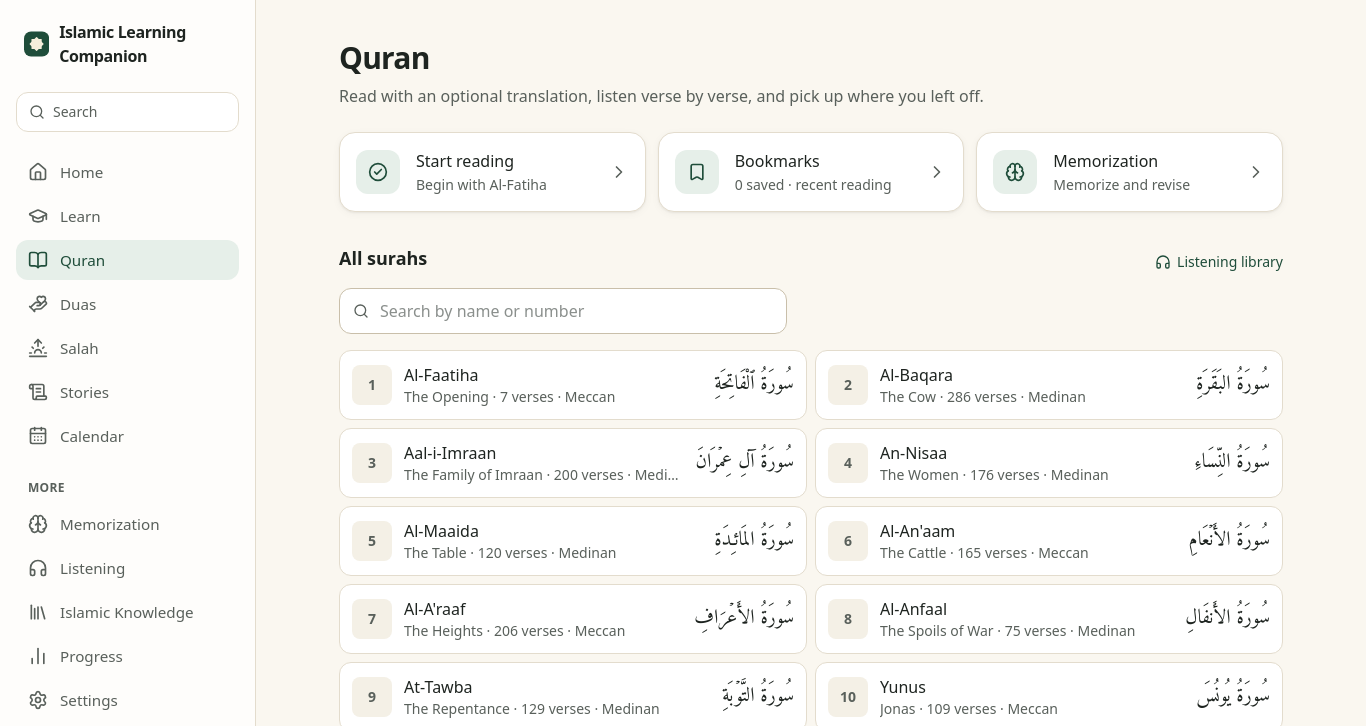
it: Quran index and listening › searches surahs by name
The width and height of the screenshot is (1366, 726).
Step 1. Type "kahf" into the search field named "search surahs" → (563, 311), box x1=339 y1=288 x2=787 y2=334
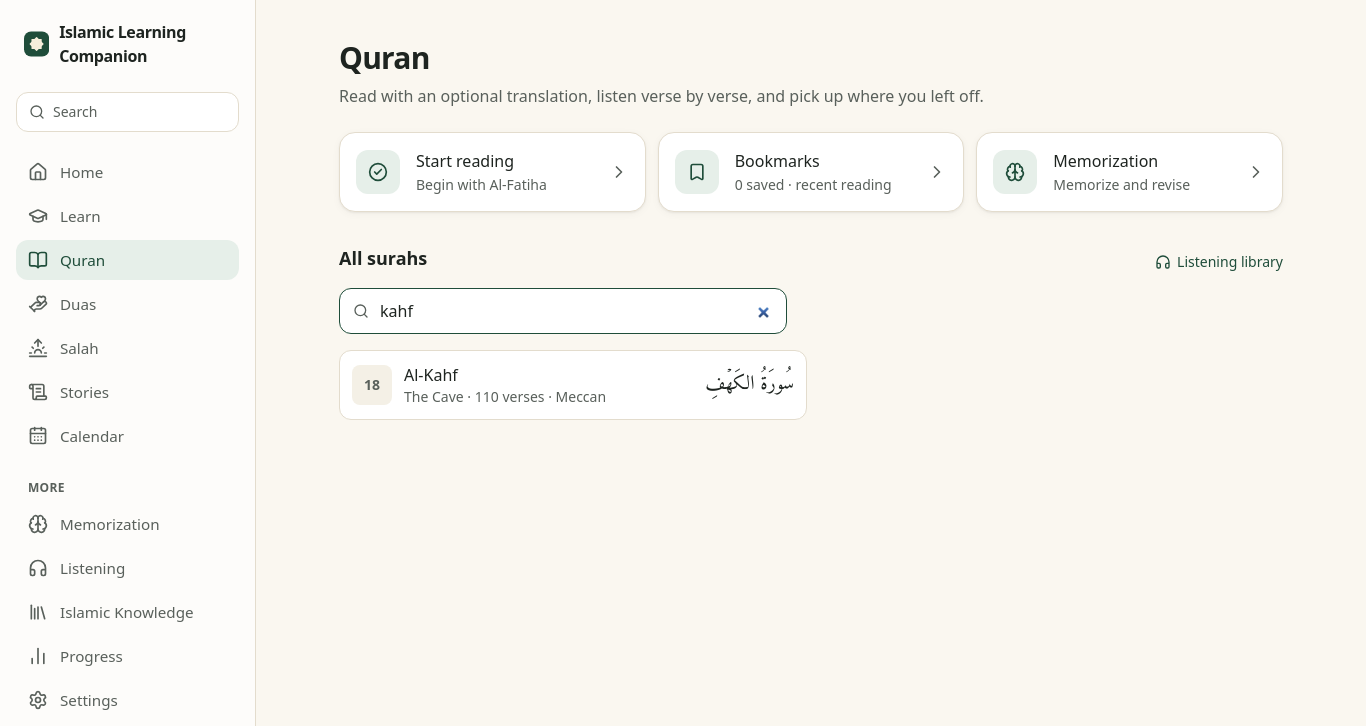
Now the number of links "18 Al-Kahf The Cave · 110 verses · Meccan سُورَةُ الكَهۡفِ" is 1, box x1=339 y1=350 x2=807 y2=420
Now the link "Al-Baqara" is gone
